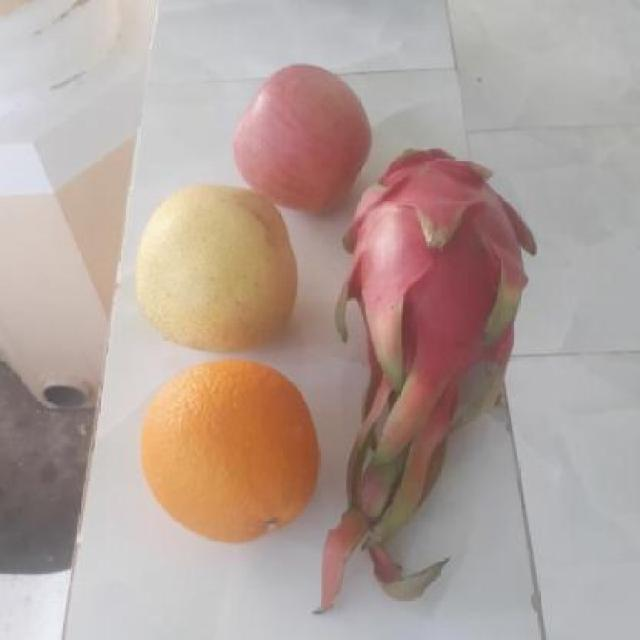apple: (225, 56, 377, 210)
dragon fruit: (342, 152, 549, 397)
oren: (128, 355, 324, 543)
pear: (130, 187, 308, 355)
